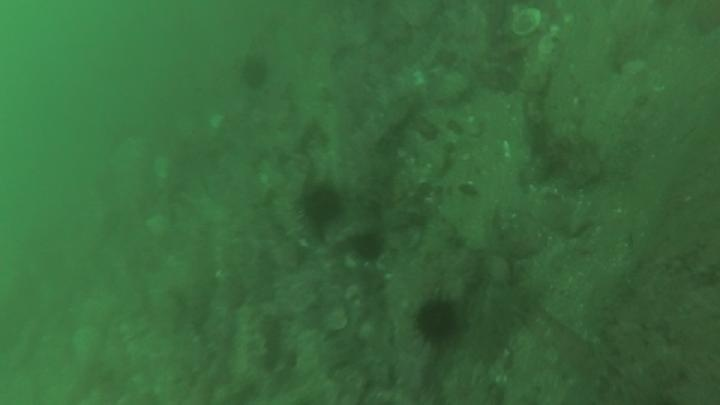echinus: (412, 297, 462, 347), (299, 184, 345, 228), (238, 53, 272, 92), (349, 230, 387, 264)
